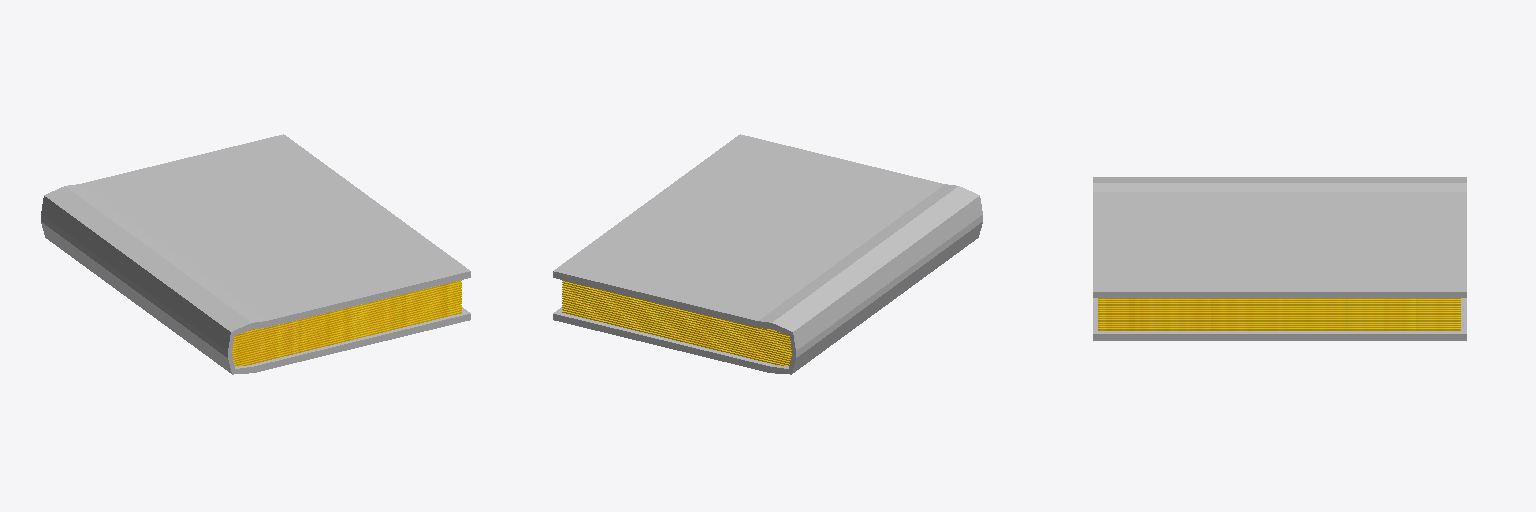
The picture shows the model from 3 angles: view 1: azimuth 30°, elevation 25°; view 2: azimuth 150°, elevation 25°; view 3: azimuth 270°, elevation 25°; orthographic projection.
Parts seen in each view (by area): view 1: book_close_paper.016_Cube.017; view 2: book_close_paper.016_Cube.017; view 3: book_close_paper.016_Cube.017.
Part boxes in pixels (x1,y1,x2,y2): book_close_paper.016_Cube.017: (41,134,470,374); book_close_paper.016_Cube.017: (553,134,982,374); book_close_paper.016_Cube.017: (1093,177,1466,340).
Size of the model in its own units: 1.5 by 0.3 by 2.
Materials: 3 (1 with a texture image).